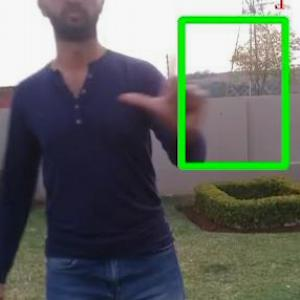land_hand: (117, 29, 214, 134)
